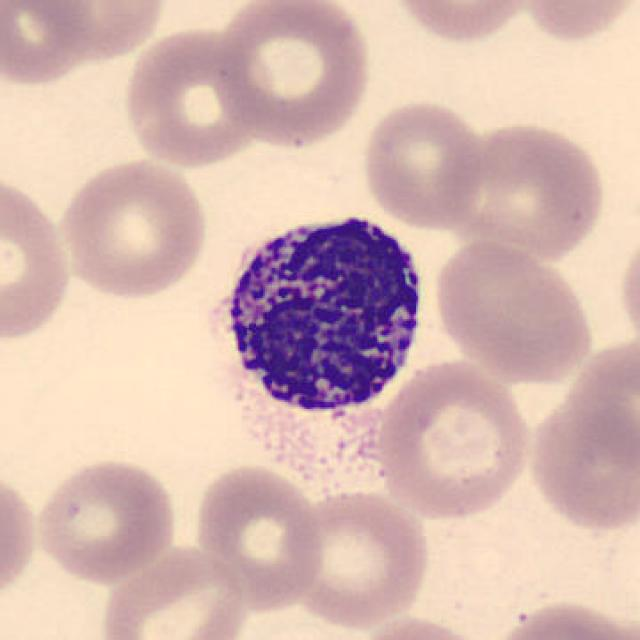Basophil: (196, 197, 436, 488)
RBC: (372, 356, 535, 524), (208, 0, 375, 150), (442, 118, 612, 265), (521, 331, 640, 538), (430, 236, 596, 384), (54, 154, 212, 302), (281, 487, 434, 631), (121, 23, 263, 171), (189, 460, 327, 612), (30, 453, 182, 585), (357, 97, 491, 231), (96, 541, 251, 640), (0, 170, 75, 348), (183, 584, 379, 638), (26, 0, 170, 65), (0, 0, 98, 90), (384, 0, 539, 46), (486, 596, 636, 640), (0, 462, 41, 610), (517, 0, 640, 46), (352, 612, 492, 640), (615, 222, 640, 358)
